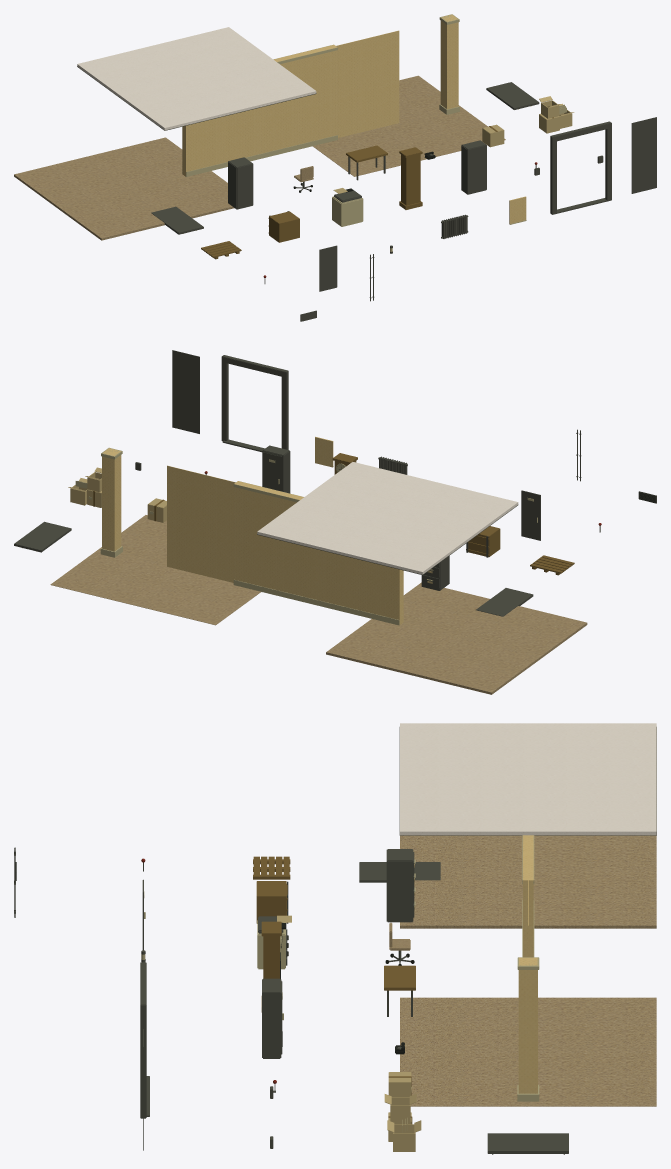
The model's file is Level1_ModularKit.fbx.
3 renders of one model, top to bottom at view 1: azimuth 30°, elevation 25°; view 2: azimuth 150°, elevation 25°; view 3: azimuth 270°, elevation 25°, orthographic. The views are drawn at different scales.
Visible parts, largest first — view 1: Ceiling.034, Floor.034, WallHalf.066, FloorSkin, WallSkin, Pillar.030, ElevatorDoorSkin.002, ElevatorFrame.001, RelayCabinet.001, FilingCabinet.003, GrandfatherClock, Printer (+8 smaller); view 2: Ceiling.034, Floor.034, WallHalf.066, FloorSkin, WallSkin, ElevatorDoorSkin.002, Pillar.030, ElevatorFrame.001, RelayCabinet.001, Fluorescent.034, RelayDoor, CardboardPile.001 (+5 smaller); view 3: Ceiling.034, FloorSkin, Floor.034, Pillar.030, FilingCabinet.003, Fluorescent.034, RelayCabinet.001, WallHalf.066, CardboardPile.001, ElevatorFrame.001, Crate, GrandfatherClock (+4 smaller).
Boxes of the visible parts, <box> form: Ceiling.034: <box>77,27,316,130</box>; Floor.034: <box>14,137,234,240</box>; WallHalf.066: <box>182,44,337,176</box>; FloorSkin: <box>312,75,505,176</box>; WallSkin: <box>284,30,399,137</box>; Pillar.030: <box>439,14,459,114</box>; ElevatorDoorSkin.002: <box>631,117,656,193</box>; ElevatorFrame.001: <box>550,121,611,214</box>; RelayCabinet.001: <box>461,140,486,194</box>; FilingCabinet.003: <box>228,157,253,209</box>; GrandfatherClock: <box>399,147,422,209</box>; Printer: <box>332,188,363,226</box>; Ceiling.034: <box>257,462,518,574</box>; Floor.034: <box>326,582,587,694</box>; WallHalf.066: <box>233,481,403,625</box>; FloorSkin: <box>50,515,260,625</box>; WallSkin: <box>167,465,298,582</box>; ElevatorDoorSkin.002: <box>172,350,199,433</box>; Pillar.030: <box>100,447,122,557</box>; ElevatorFrame.001: <box>221,355,288,452</box>; RelayCabinet.001: <box>262,445,290,493</box>; Fluorescent.034: <box>14,521,71,552</box>; RelayDoor: <box>521,490,540,540</box>; CardboardPile.001: <box>68,467,101,507</box>; Ceiling.034: <box>399,723,656,835</box>; FloorSkin: <box>400,997,656,1106</box>; Floor.034: <box>400,835,656,928</box>; Pillar.030: <box>517,957,539,1101</box>; FilingCabinet.003: <box>386,849,415,922</box>; Fluorescent.034: <box>487,1133,568,1154</box>; RelayCabinet.001: <box>262,978,283,1058</box>; WallHalf.066: <box>522,835,534,957</box>; CardboardPile.001: <box>384,1093,421,1151</box>; ElevatorFrame.001: <box>140,962,149,1118</box>; Crate: <box>256,881,288,923</box>; GrandfatherClock: <box>261,921,282,1012</box>.
Bounding box in the file's own units: 2075 × 491 × 1684.
Materials: 11 (4 with a texture image).
